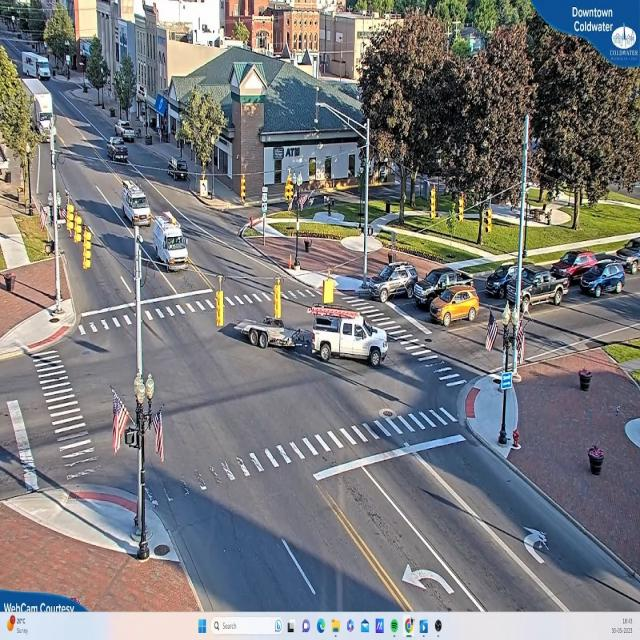car: (308, 303, 387, 365), (488, 267, 570, 309), (148, 213, 188, 268), (369, 266, 419, 304), (430, 290, 480, 326), (580, 264, 628, 298), (551, 252, 600, 280), (122, 189, 155, 224), (110, 138, 129, 160)
